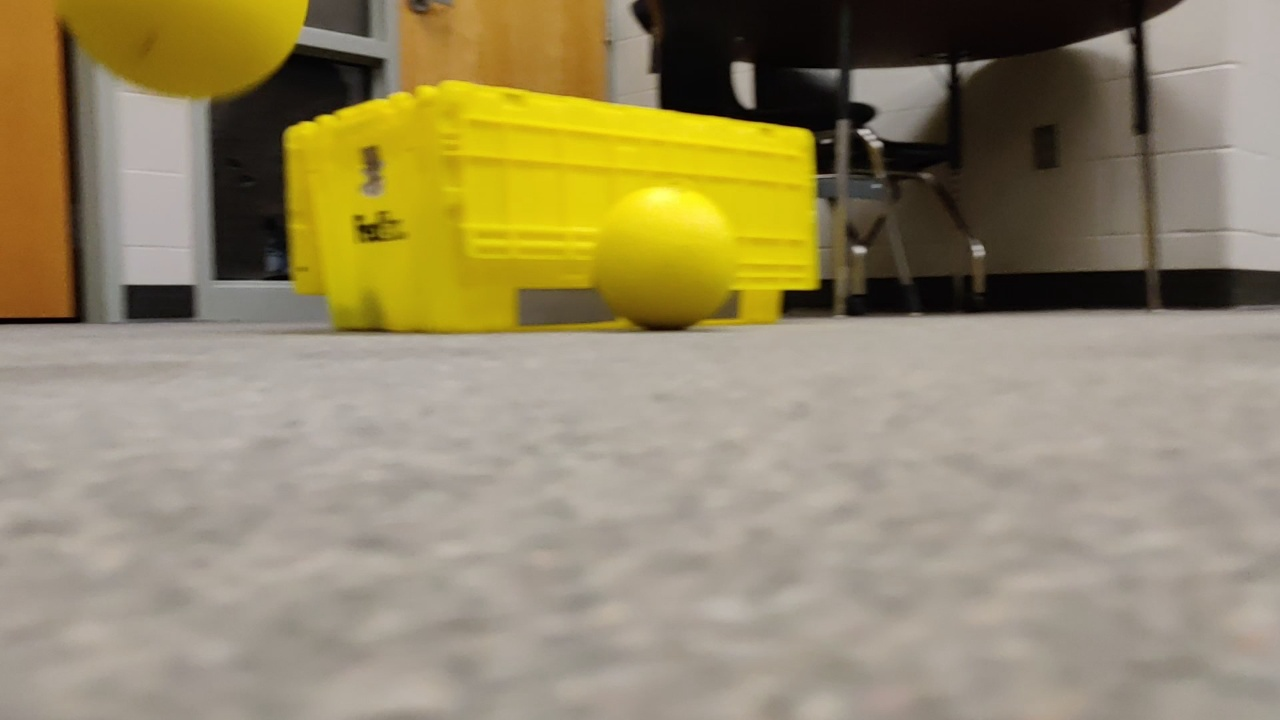Ball: (54, 1, 315, 107), (592, 180, 744, 339)
